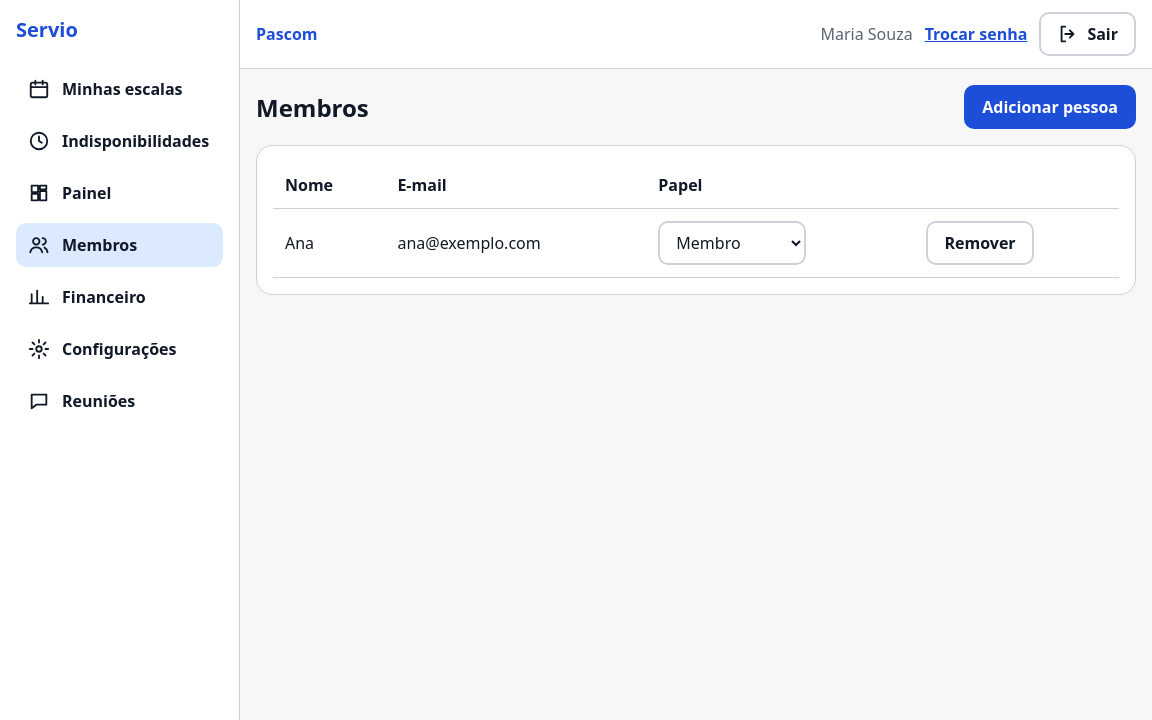
Test: Membros › coordenador cria conta de SERVIDOR e já a coloca na pastoral com o papel escolhido
Step 1. Click the button "Adicionar pessoa" → (1050, 107), box [964, 85, 1136, 129]
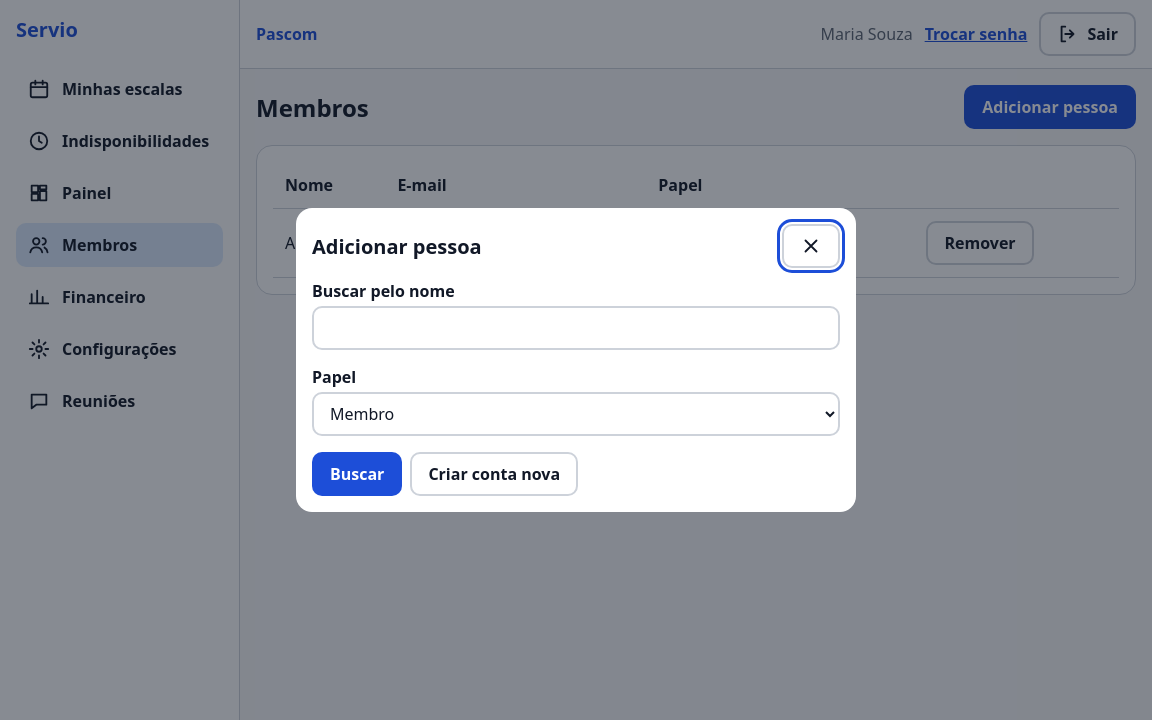
Step 2. Click the button "Criar conta nova" → (494, 474), box [410, 452, 578, 496]
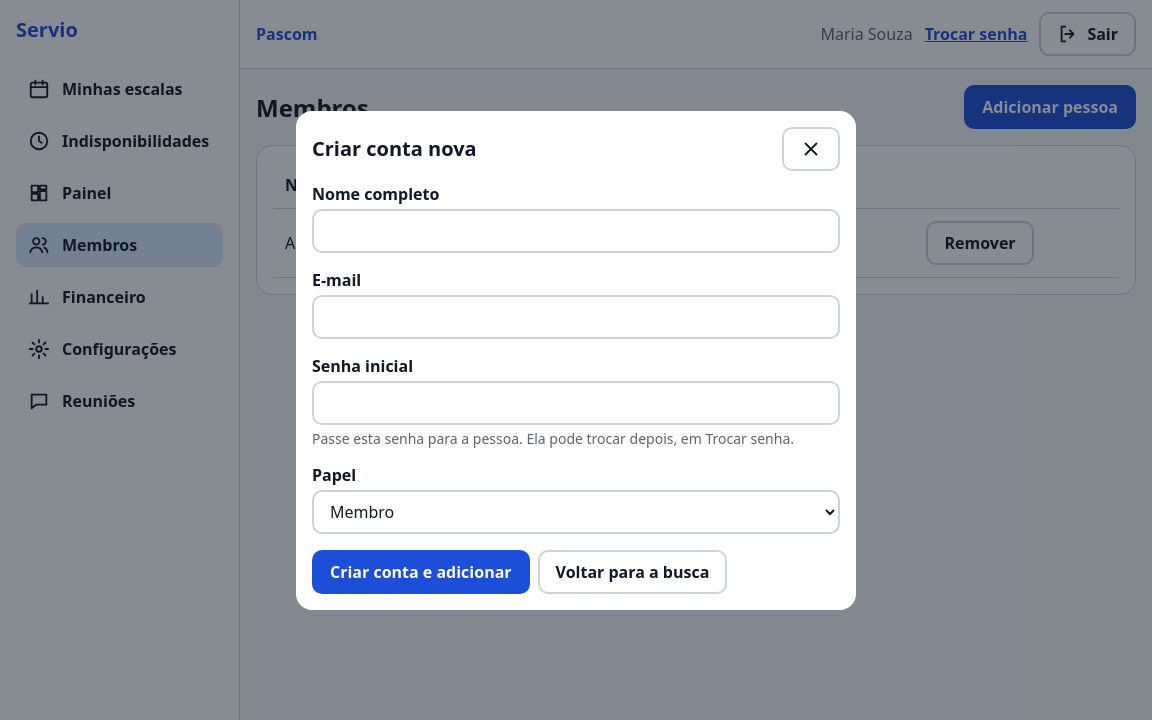
Step 3. Type "João Lima" into the field labelled "Nome completo" → (576, 230), box [312, 208, 840, 252]
Step 4. Type "joao@exemplo.com" into the field labelled "E-mail" → (576, 316), box [312, 294, 840, 338]
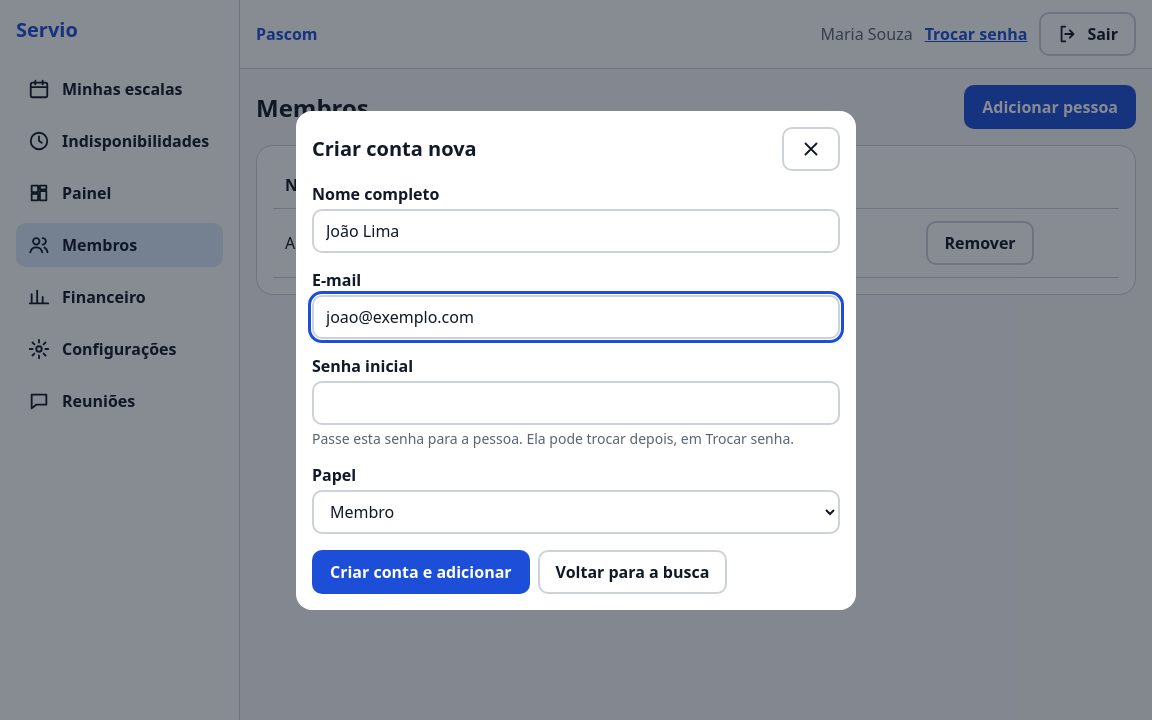
Step 5. Type "senha-forte-1" into the password field labelled "Senha inicial" → (576, 402), box [312, 380, 840, 424]
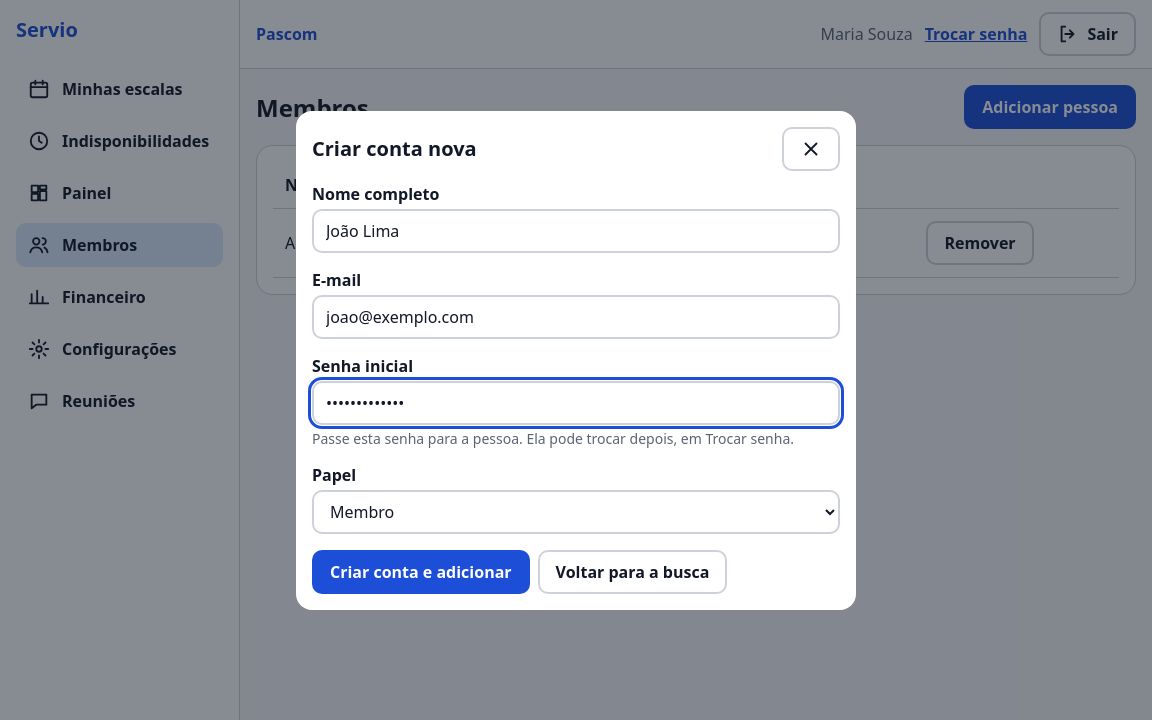
Step 6. Select "Secretário" in the dropdown labelled "Papel" → (576, 512), box [312, 490, 840, 534]
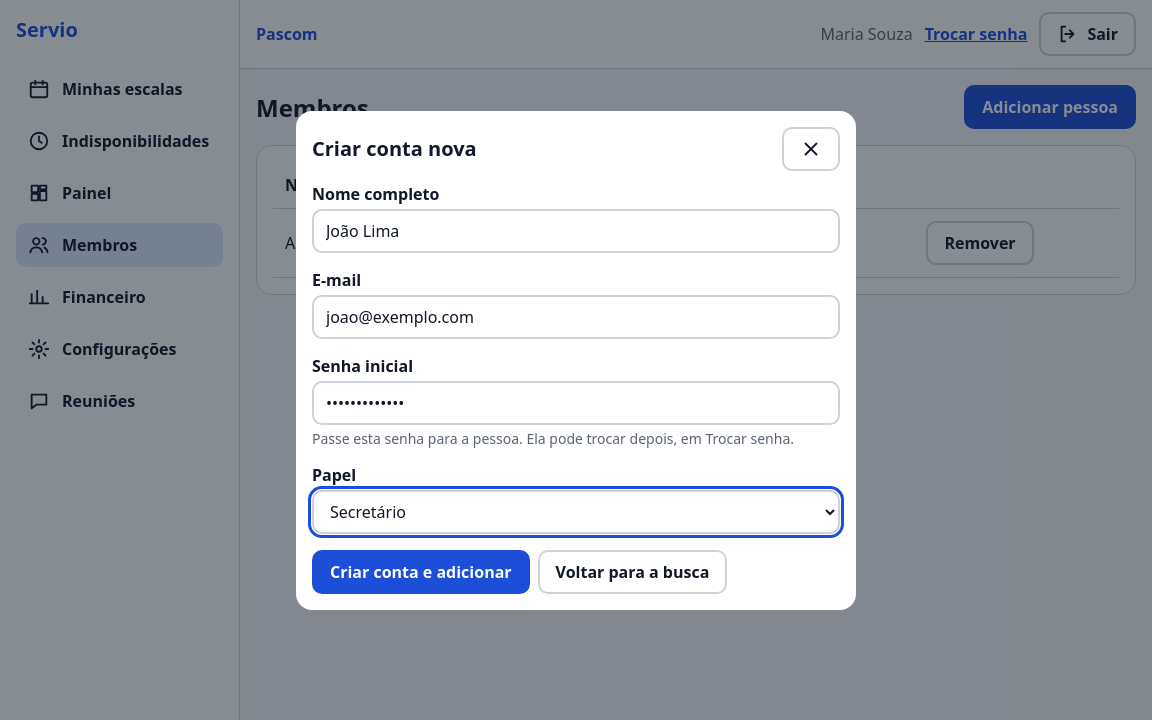
Step 7. Click the button "Criar conta e adicionar" → (421, 572), box [312, 550, 530, 594]
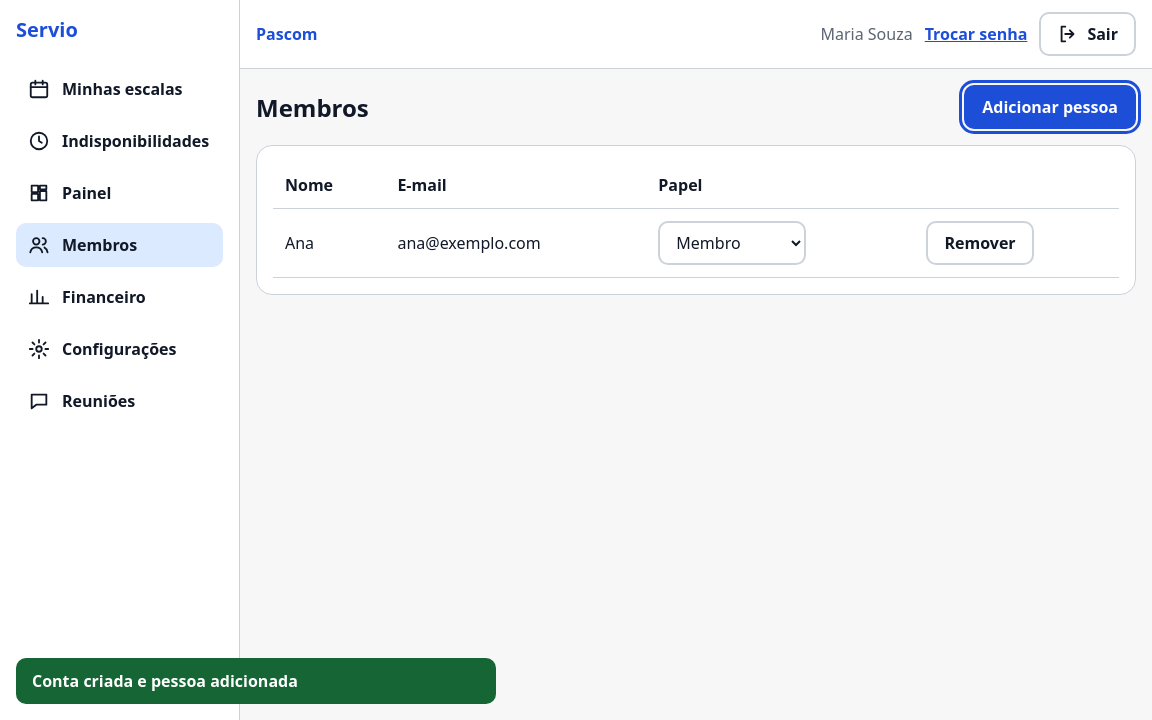
Check: the text "Conta criada e pessoa adicionada" is shown, box [16, 658, 496, 704]
